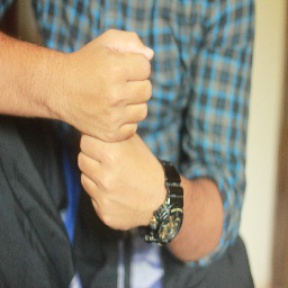G: (60, 23, 172, 236)
